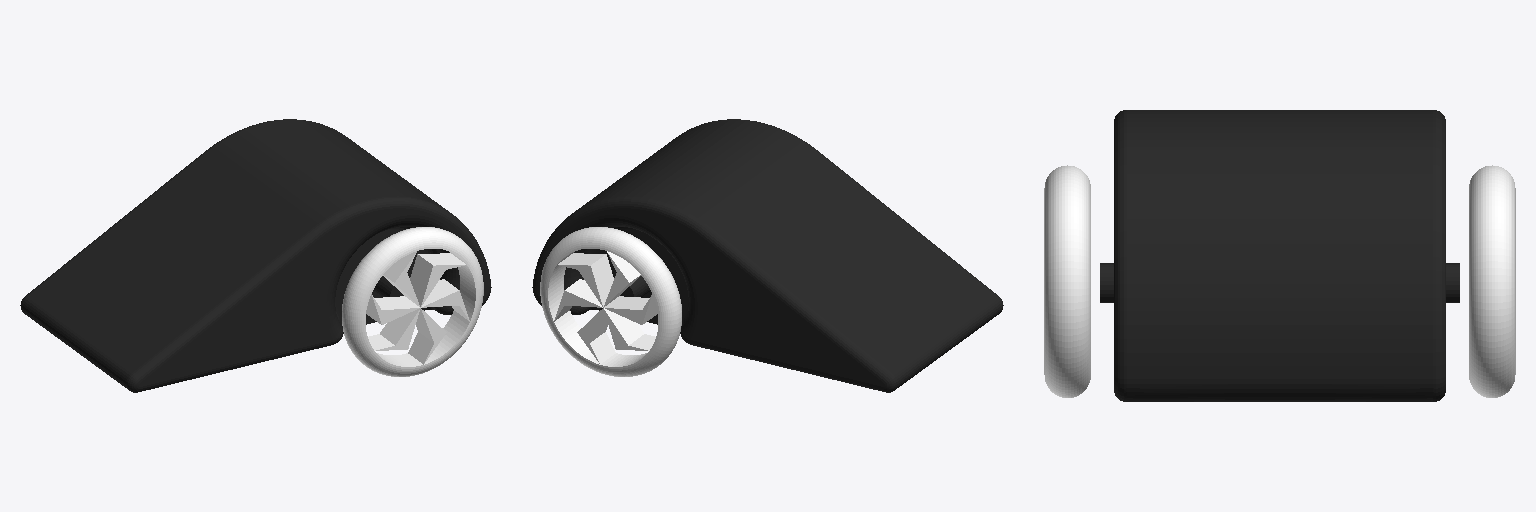
URDF robot description (robot):
<robot name="robot">

    <link name="base_footprint"/>
    <link name="base">

      <inertial>
        <mass value="5" />
        <origin xyz="0 0 0" rpy="0 0 0" />
        <inertia ixx="0.004" iyy="0.006" izz="0.007" ixy="0.0" ixz="0.0" iyz="0.0" />
      </inertial>

      <visual>
        <geometry>
            <mesh filename="package://robot/meshes/base_link.stl"/>
        </geometry>
        <material name="gray">
          <color rgba=".2 .2 .2 1" />
        </material>
      </visual>

      <collision>
        <geometry>
          <mesh filename="package://robot/meshes/base_link.stl"/>
      </geometry>
        <contact_coefficients mu="1" mu2="1" kp="1e+13.0" kd="1.0"/>
      </collision>


    </link>
   <joint name="base_joint" type="fixed">
      <parent link="base_footprint"/>
      <child link="base"/>
      <origin rpy="0 0 0" xyz="0 0 0.019"/>
    </joint>


 <link name="wheel_right">
    <inertial>
      <mass value="0.75"/>
      <inertia ixx="0.0001444223" iyy="0.000280875" izz="0.0001444223" ixy="0.0" ixz="0.0" iyz="0.0"/>
      <origin/>
    </inertial>

      <visual>

        <geometry>
            <mesh filename="package://robot/meshes/wheel_r.stl"/>
        </geometry>

        <material name="white">
          <color rgba="1 1 1 1"/>
        </material>
      </visual>

      <collision>
        <geometry>
            <mesh filename="package://robot/meshes/wheel_r.stl"/>
        </geometry>
        <contact_coefficients mu="0" kp="1000.0" kd="1.0"/>
      </collision>

    </link>

    <joint name="wheel_right_joint" type="continuous">
      <origin xyz="0.003 0.029 -0.0015  " rpy="0 0.0 0.0"/>
      <parent link="base"/>
      <child link="wheel_right"/>
      <axis xyz="0.0 -1.0 0"/>
    </joint>

    <link name="wheel_left">
      <inertial>
        <mass value="0.75"/>
        <inertia ixx="0.0001444223" iyy="0.000280875" izz="0.0001444223" ixy="0.0" ixz="0.0" iyz="0.0" />
        <origin/>
      </inertial>

      <visual>

        <geometry>
            <mesh filename="package://robot/meshes/wheel_l.stl"/>
        </geometry>

        <material name="white">
          <color rgba="1 1 1 1"/>
        </material>
      </visual>

      <collision>
        <geometry>
            <mesh filename="package://robot/meshes/wheel_l.stl"/>
        </geometry>
        <contact_coefficients mu="0" kp="1000.0" kd="1.0"/>
      </collision>
    </link>

    <joint name="wheel_left_joint" type="continuous">
      <origin xyz="0.003 -0.029 -0.0015" rpy="0 0.0 0"/>
      <parent link="base"/>
      <child link="wheel_left"/>
      <axis xyz="0.0 1 0"/>

    </joint>


    <link name="caster">

      <inertial>
        <mass value="0.75"/>
        <inertia ixx="0.00006475" iyy="0.00006475" izz="0.00006475" ixy="0.0" ixz="0.0" iyz="0.0" />
        <origin/>
      </inertial>

      <visual>
        <geometry>
          <mesh filename="package://robot/meshes/front_caster.stl"/>
      </geometry>
        <material name="black"/>
      </visual>

      <collision>
        <geometry>
          <mesh filename="package://robot/meshes/front_caster.stl"/>
      </geometry>
        <contact_coefficients mu="0" kp="1000.0" kd="1.0"/>
      </collision>
    </link>

    <joint name="caster_joint" type="continuous">
      <origin xyz="-0.05  0 -0.0159" rpy="0.0 0.0 0.0"/>
      <axis xyz="0 0 1" />
      <parent link="base"/>
      <child link="caster"/>
    </joint>


  <link name="camera_link">
  </link>

  <joint name="camera_joint" type="fixed">
    <origin xyz="-0.16 0.0 0.08" rpy="0 0.0 3.14"/>
    <parent link="base"/>
    <child link="camera_link"/>
    <axis xyz="0.0 0.0 1.0"/>

</joint>


    <gazebo reference="camera_link">
        <sensor type="camera" name="Botcamera">
          <update_rate>30.0</update_rate>
          <camera name="head">
            <horizontal_fov>1.3962634</horizontal_fov>
            <image>
              <width>800</width>
              <height>800</height>
              <format>R8G8B8</format>
            </image>
            <clip>
              <near>0.02</near>
              <far>300</far>
            </clip>
            <noise>
              <type>gaussian</type>
              <mean>0.0</mean>
              <stddev>0.007</stddev>
            </noise>
          </camera>
          <plugin name="camera_controller" filename="libgazebo_ros_camera.so">
            <alwaysOn>true</alwaysOn>
            <updateRate>0.0</updateRate>
            <cameraName>/Botcamera</cameraName>
            <imageTopicName>image_raw</imageTopicName>
            <cameraInfoTopicName>camera_info</cameraInfoTopicName>
            <frameName>camera_link</frameName>
            <hackBaseline>0.07</hackBaseline>
          </plugin>
        </sensor>
        <material>Gazebo/Blue</material>
      </gazebo>




    <gazebo>
      <plugin filename="libgazebo_ros_diff_drive.so" name="gazebo_base_controller">
        <odometry_frame>odom</odometry_frame>
        <commandTopic>cmd_vel</commandTopic>
        <publish_odom>true</publish_odom>
        <publish_odom_tf>true</publish_odom_tf>
        <update_rate>15.0</update_rate>
        <left_joint>wheel_left_joint</left_joint>
        <right_joint>wheel_right_joint</right_joint>
        <wheel_separation>0.8</wheel_separation>
        <wheel_diameter>0.3</wheel_diameter>
        <max_wheel_acceleration>0.7</max_wheel_acceleration>
        <robotBaseFrame>base</robotBaseFrame>

      </plugin>
    </gazebo>


  <gazebo reference="base">
      <material>Gazebo/Black</material>
    </gazebo>
    <gazebo reference="caster">
      <material>Gazebo/Red</material>
    </gazebo>

    <gazebo reference="wheel_right">
      <material>Gazebo/Orange</material>
    </gazebo>
    <gazebo reference="wheel_left">
      <material>Gazebo/Orange</material>
    </gazebo>







  </robot>

--- Render facts (derived) ---
Views: 3 orthographic renders of the robot side by side, from view 1: azimuth 30°, elevation 25°; view 2: azimuth 150°, elevation 25°; view 3: azimuth 270°, elevation 25°.
Model robot with 6 links and 5 joints (3 continuous, 2 fixed), rooted at base_footprint, posed every joint at zero.
Links seen in each view (by area): view 1: base, wheel_left; view 2: base, wheel_right; view 3: base, wheel_right, wheel_left.
Link boxes in pixels (bbox=[...]): base: bbox=[20, 119, 491, 392]; wheel_left: bbox=[342, 227, 483, 376]; base: bbox=[532, 119, 1003, 392]; wheel_right: bbox=[540, 227, 681, 376]; base: bbox=[1100, 110, 1459, 401]; wheel_right: bbox=[1469, 165, 1515, 397]; wheel_left: bbox=[1044, 165, 1090, 397].
Size in the robot's own frame: 0.9233 by 0.708 by 0.4178 metres.
4 mesh visuals loaded from 4 distinct referenced files (4 binary STL).
